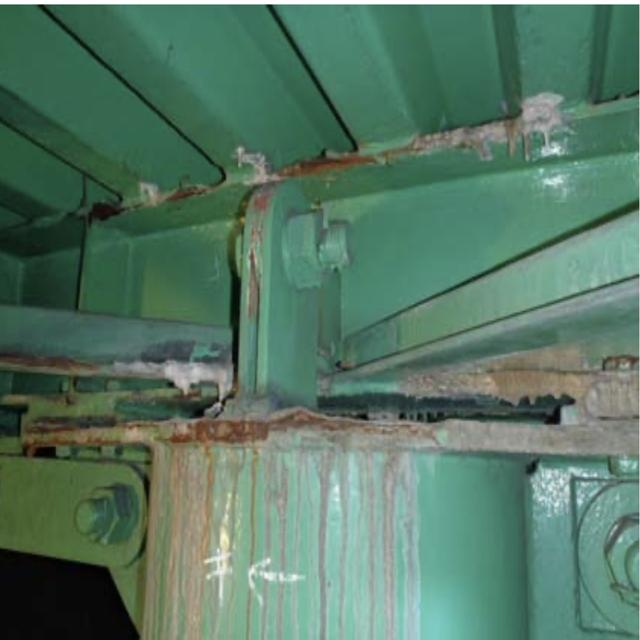corrosion: (37, 354, 440, 469), (99, 139, 400, 204)
